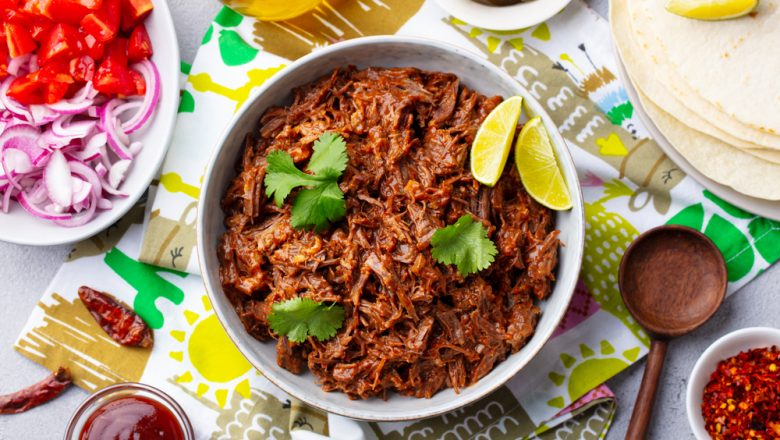rendang: (176, 32, 583, 414)
